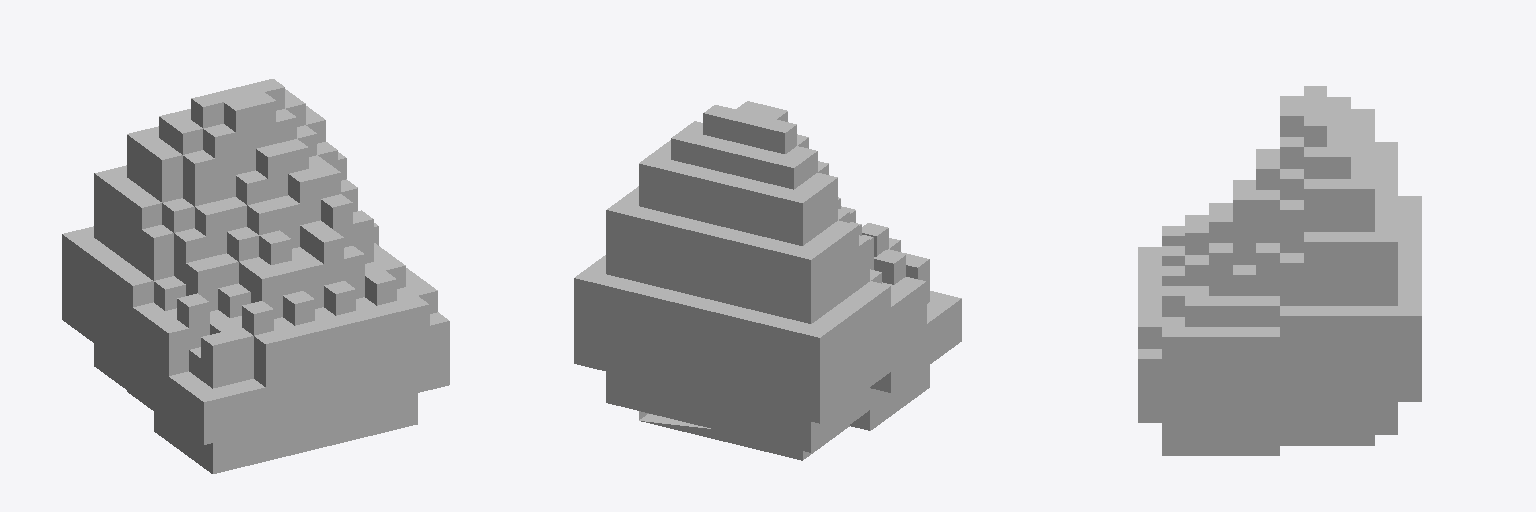
Rendered from smash3.obj.
3 renders of one model, left to right at view 1: azimuth 30°, elevation 25°; view 2: azimuth 150°, elevation 25°; view 3: azimuth 270°, elevation 25°, orthographic.
Visible parts, largest first — view 1: smash2; view 2: smash2; view 3: smash2.
Boxes of the visible parts, x1=… form: smash2: x1=62, y1=79, x2=449, y2=473; smash2: x1=574, y1=101, x2=961, y2=460; smash2: x1=1138, y1=86, x2=1421, y2=455.
Bounding box in the file's own units: 0.75 × 0.875 × 0.75.